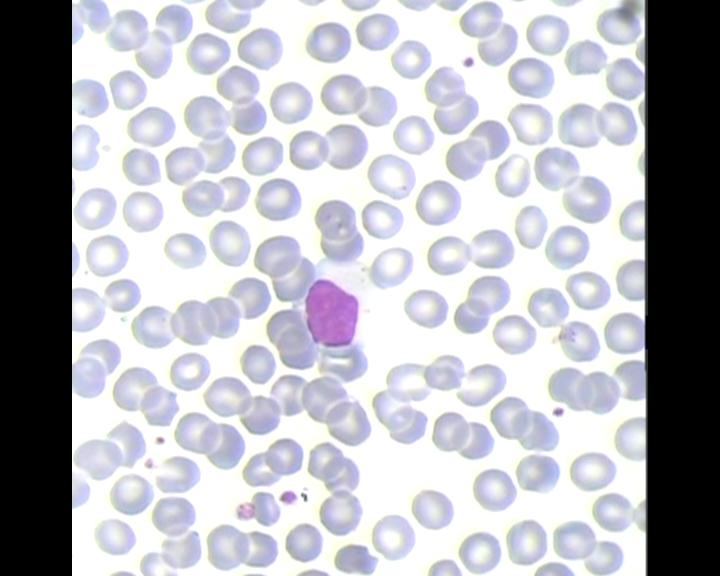lymp: (299, 256, 377, 352)
